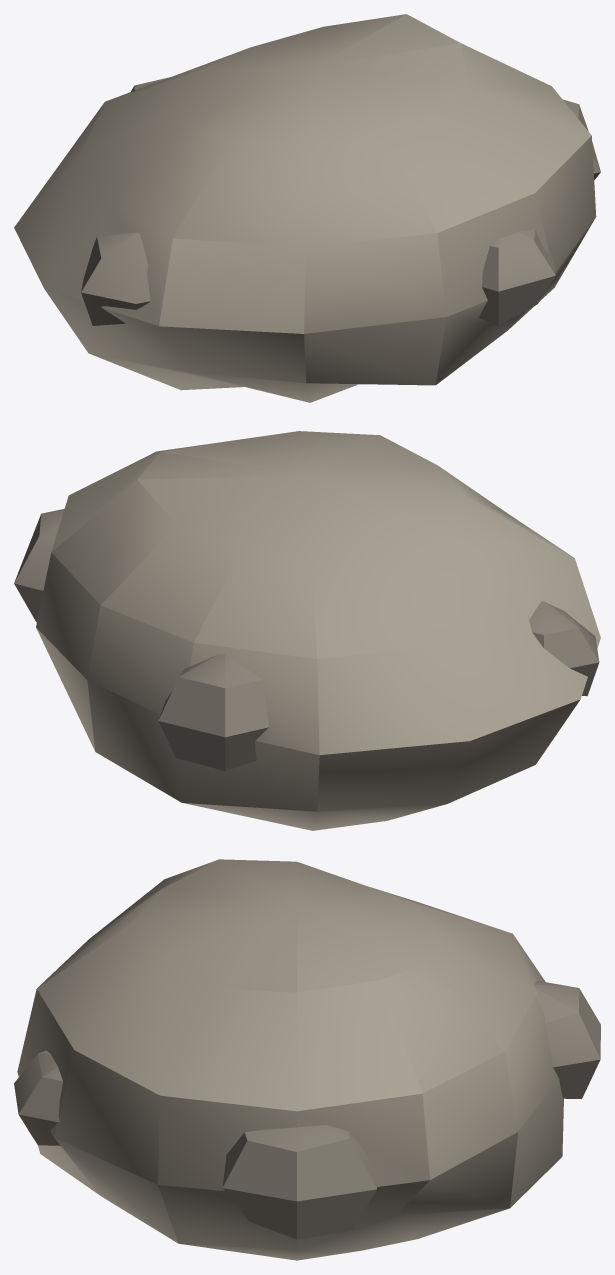
Rendered from item_staub.obj.
3 views of the same model, one above another, from view 1: azimuth 30°, elevation 25°; view 2: azimuth 150°, elevation 25°; view 3: azimuth 270°, elevation 25° (orthographic). The views are drawn at different scales.
Visible parts, largest first — view 1: item_staub_Koerper; view 2: item_staub_Koerper; view 3: item_staub_Koerper.
Part boxes in pixels (x1,y1,x2,y2): item_staub_Koerper: [14, 14, 600, 402]; item_staub_Koerper: [14, 431, 600, 830]; item_staub_Koerper: [14, 859, 600, 1260].
Size of the model in its own units: 0.4072 by 0.2072 by 0.3508.
